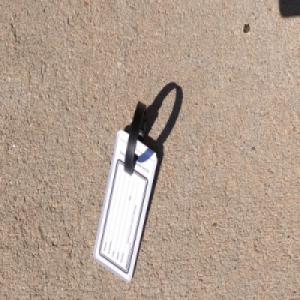LuggageTag: (93, 97, 159, 283)
